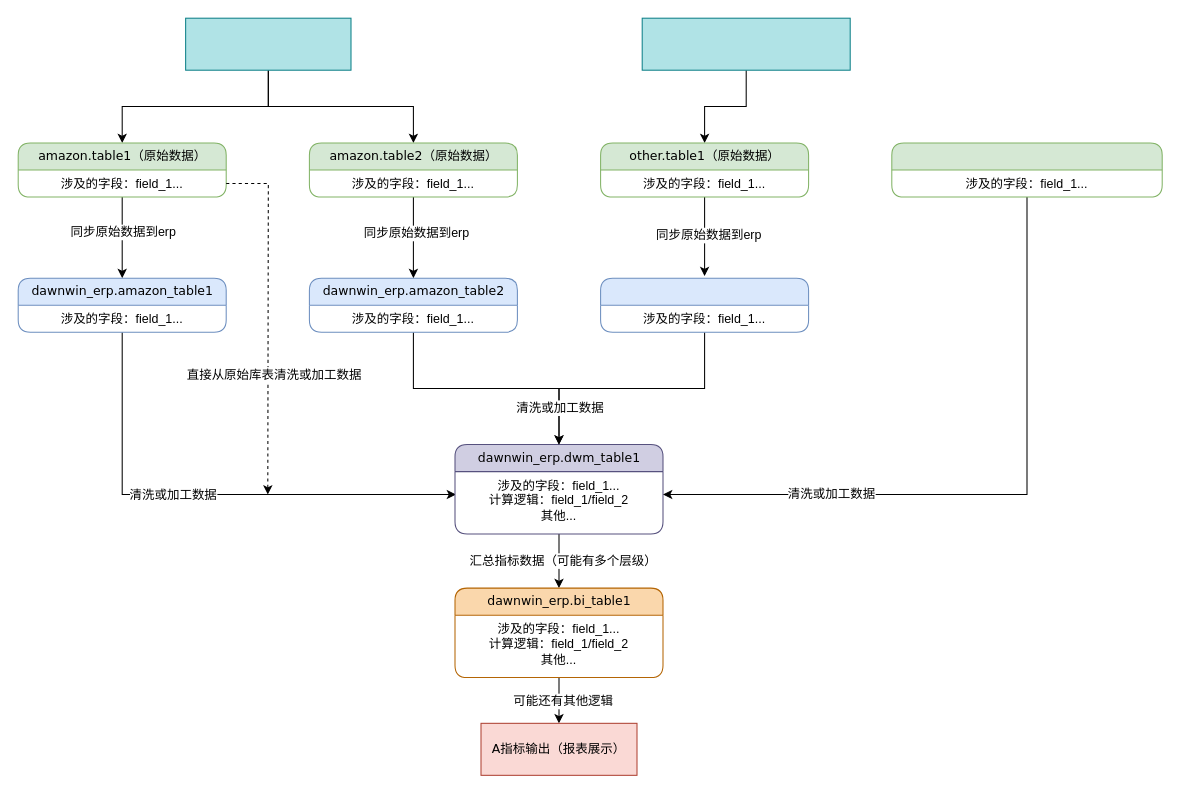
The diagram is 1180 pixels wide and 794 high, and some of its shapes have lost their labels. Here are the shapes that lost their labels. From the top down, the box of each, then its label:
(185, 17, 351, 70): API接口拉取数据
(641, 17, 850, 70): 爬虫获取数据
(891, 142, 1162, 197): dawnwin_erp.erp_table1（原始数据）
(600, 277, 809, 332): dawnwin_erp.other_table1
